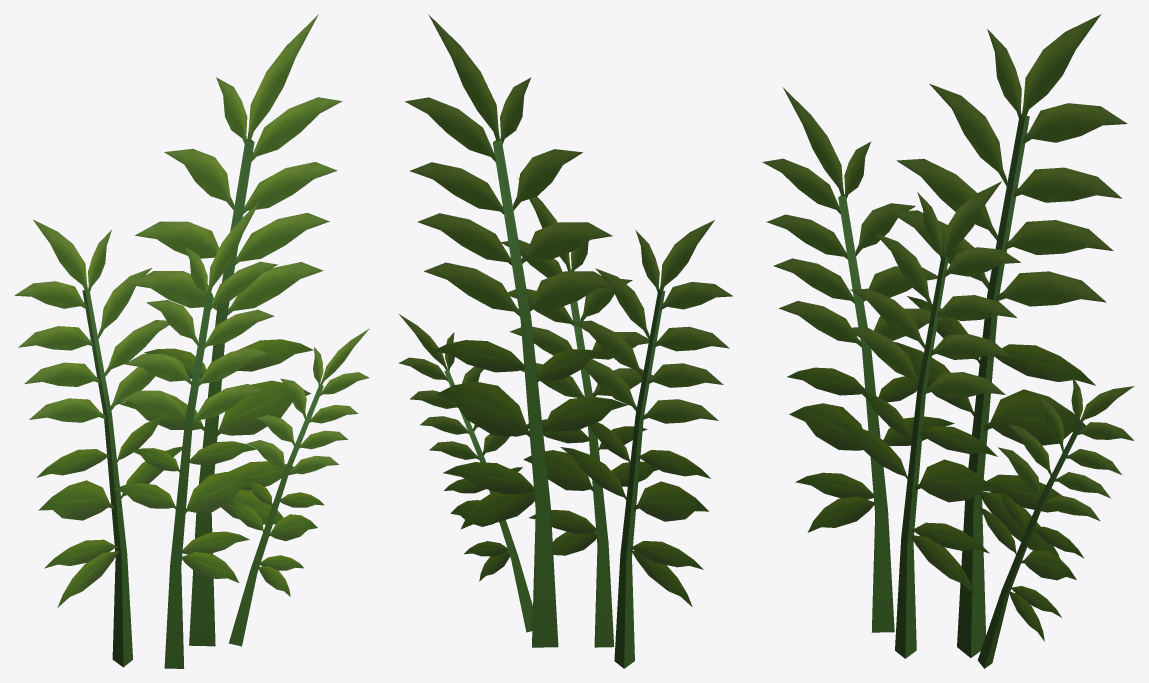
Rendered from sucai_05.FBX.
3 renders of one model, left to right at view 1: azimuth 30°, elevation 25°; view 2: azimuth 150°, elevation 25°; view 3: azimuth 330°, elevation 25°, orthographic. The views are drawn at different scales.
Parts seen in each view (by area): view 1: sucai_05; view 2: sucai_05; view 3: sucai_05.
Boxes of the visible parts, <box> form: sucai_05: <box>14,14,369,668</box>; sucai_05: <box>398,14,732,668</box>; sucai_05: <box>762,14,1134,668</box>.
Size of the model in its own units: 41.37 by 68.89 by 5.76.
